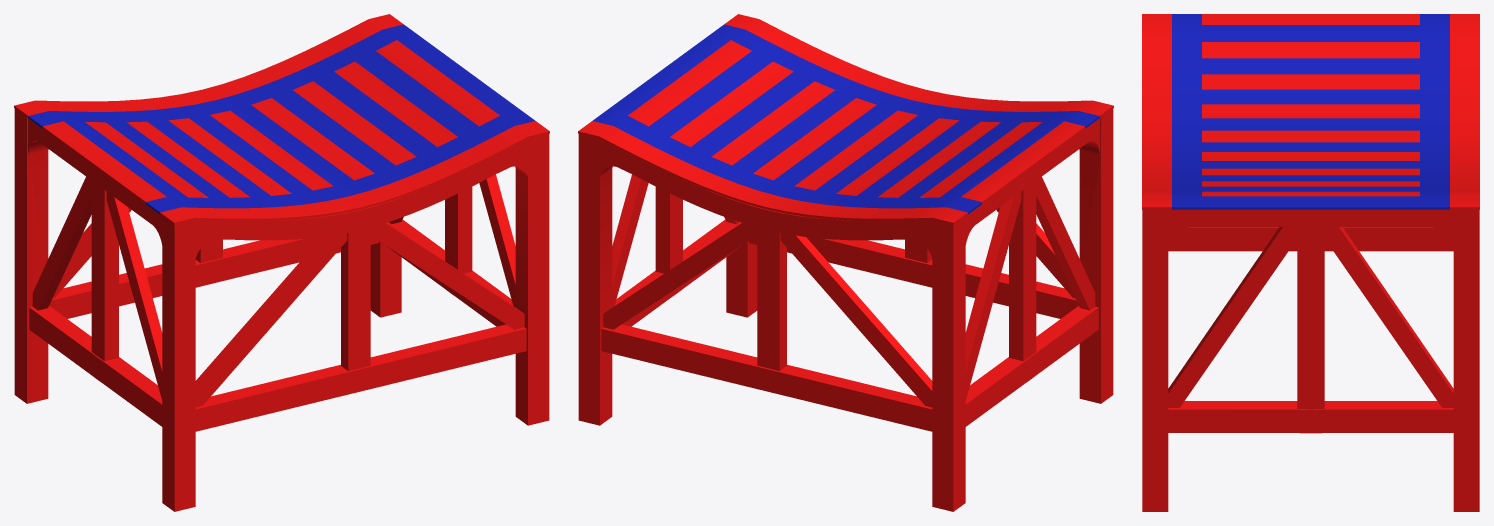
Rendered from stool.fbx.
3 renders of one model, left to right at view 1: azimuth 30°, elevation 25°; view 2: azimuth 150°, elevation 25°; view 3: azimuth 270°, elevation 25°, orthographic. The views are drawn at different scales.
Visible parts, largest first — view 1: frame, mat; view 2: frame, mat; view 3: mat, frame.
Boxes of the visible parts, <box> form: frame: <box>14,108,549,511</box>; mat: <box>14,14,549,224</box>; frame: <box>578,108,1113,511</box>; mat: <box>578,14,1113,224</box>; mat: <box>1142,14,1479,209</box>; frame: <box>1142,209,1479,511</box>.
Size of the model in its own units: 42.35 by 31.18 by 31.29.
